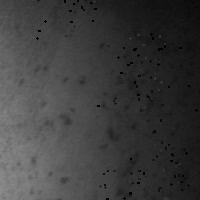pitted_surface: (14, 57, 77, 193), (101, 60, 147, 199), (138, 81, 195, 139), (129, 141, 187, 198), (123, 33, 181, 90), (97, 45, 151, 105), (35, 0, 94, 37), (90, 170, 143, 200)
